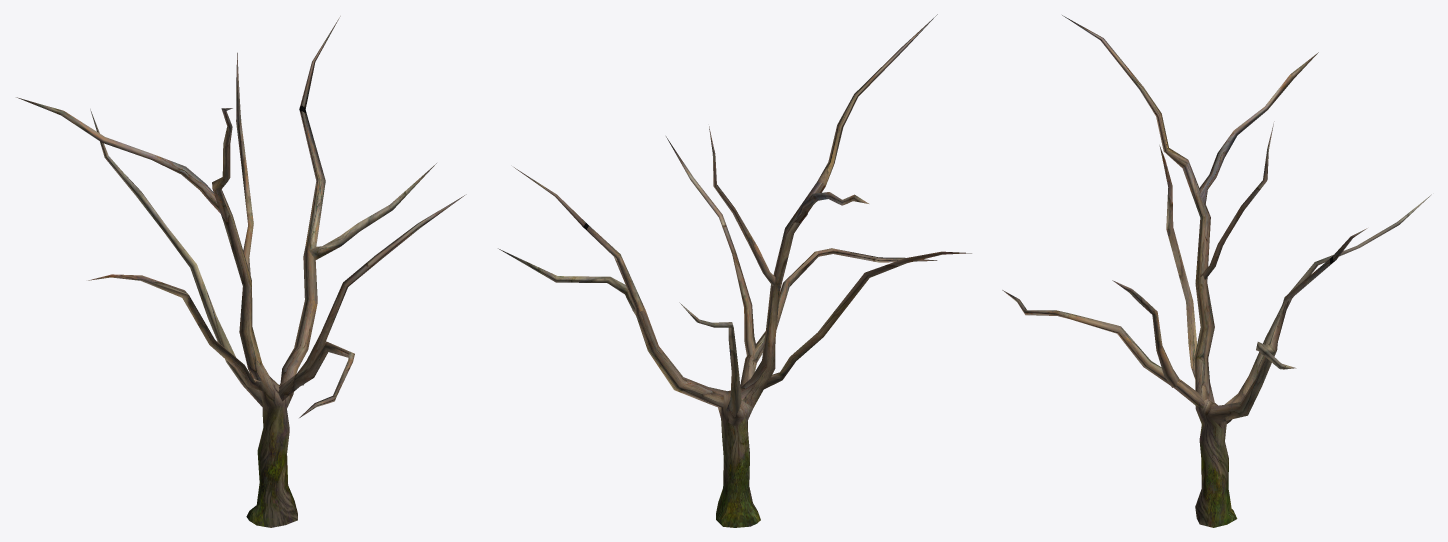
File: Yland1_sg_15 Yland1.FBX
3 views of the same model, side by side, from view 1: azimuth 30°, elevation 25°; view 2: azimuth 150°, elevation 25°; view 3: azimuth 270°, elevation 25° (orthographic). The views are drawn at different scales.
Parts seen in each view (by area): view 1: Yland1_sg_15 Yland1; view 2: Yland1_sg_15 Yland1; view 3: Yland1_sg_15 Yland1.
Boxes of the visible parts, bbox=[...] form: Yland1_sg_15 Yland1: bbox=[16, 16, 466, 527]; Yland1_sg_15 Yland1: bbox=[498, 14, 971, 527]; Yland1_sg_15 Yland1: bbox=[1002, 15, 1431, 527].
Size of the model in its own units: 6.38 by 7.16 by 6.25.
